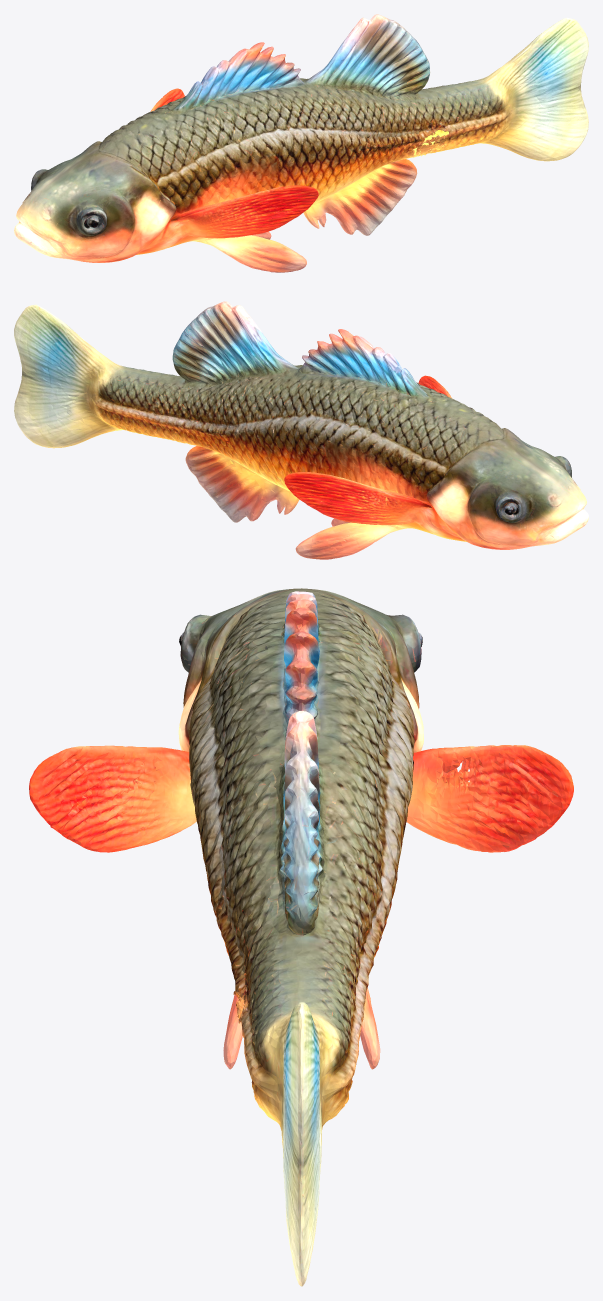
File: minnow.fbx
3 renders of one model, top to bottom at view 1: azimuth 30°, elevation 25°; view 2: azimuth 150°, elevation 25°; view 3: azimuth 270°, elevation 25°, orthographic. The views are drawn at different scales.
Visible parts, largest first — view 1: world; view 2: world; view 3: world.
Part boxes in pixels (x1=…): world: x1=14, y1=14, x2=588, y2=272; world: x1=14, y1=301, x2=588, y2=559; world: x1=29, y1=588, x2=573, y2=1286.
Size of the model in its own units: 199 by 73.05 by 82.27.
Materials: 1 (1 with a texture image).
